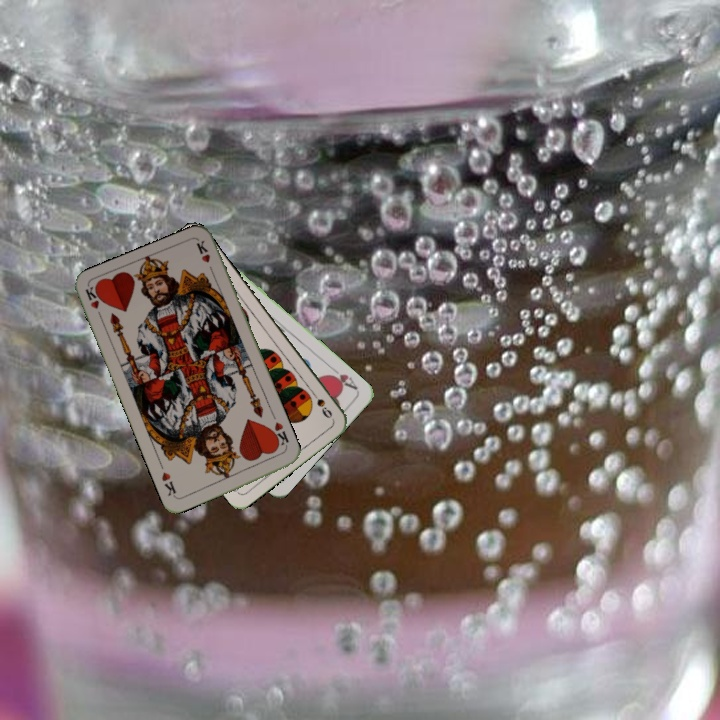HA: (325, 362, 360, 393)
HK: (81, 282, 106, 323), (266, 418, 291, 452)
S9: (306, 386, 335, 421)
